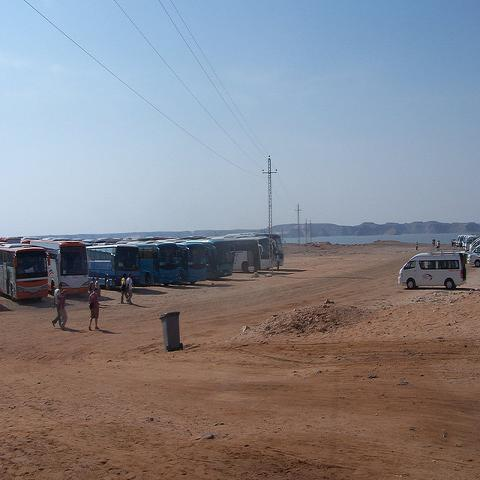bus: (20, 239, 88, 295), (0, 244, 49, 302), (86, 244, 140, 288), (138, 242, 182, 287), (186, 238, 232, 279), (225, 236, 272, 272), (176, 241, 211, 284), (268, 234, 283, 268)
car: (466, 243, 480, 269), (464, 235, 480, 251), (469, 237, 479, 253), (462, 236, 467, 247)
truck: (398, 255, 467, 290)
